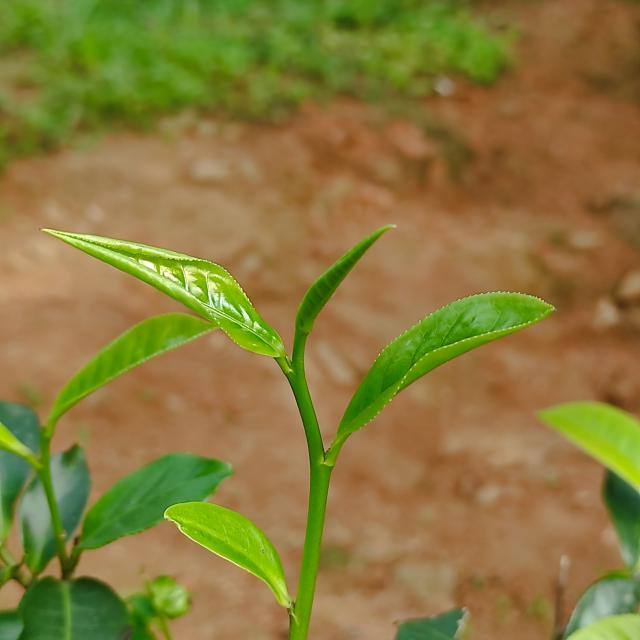unopened_leaf: (278, 210, 419, 376)
